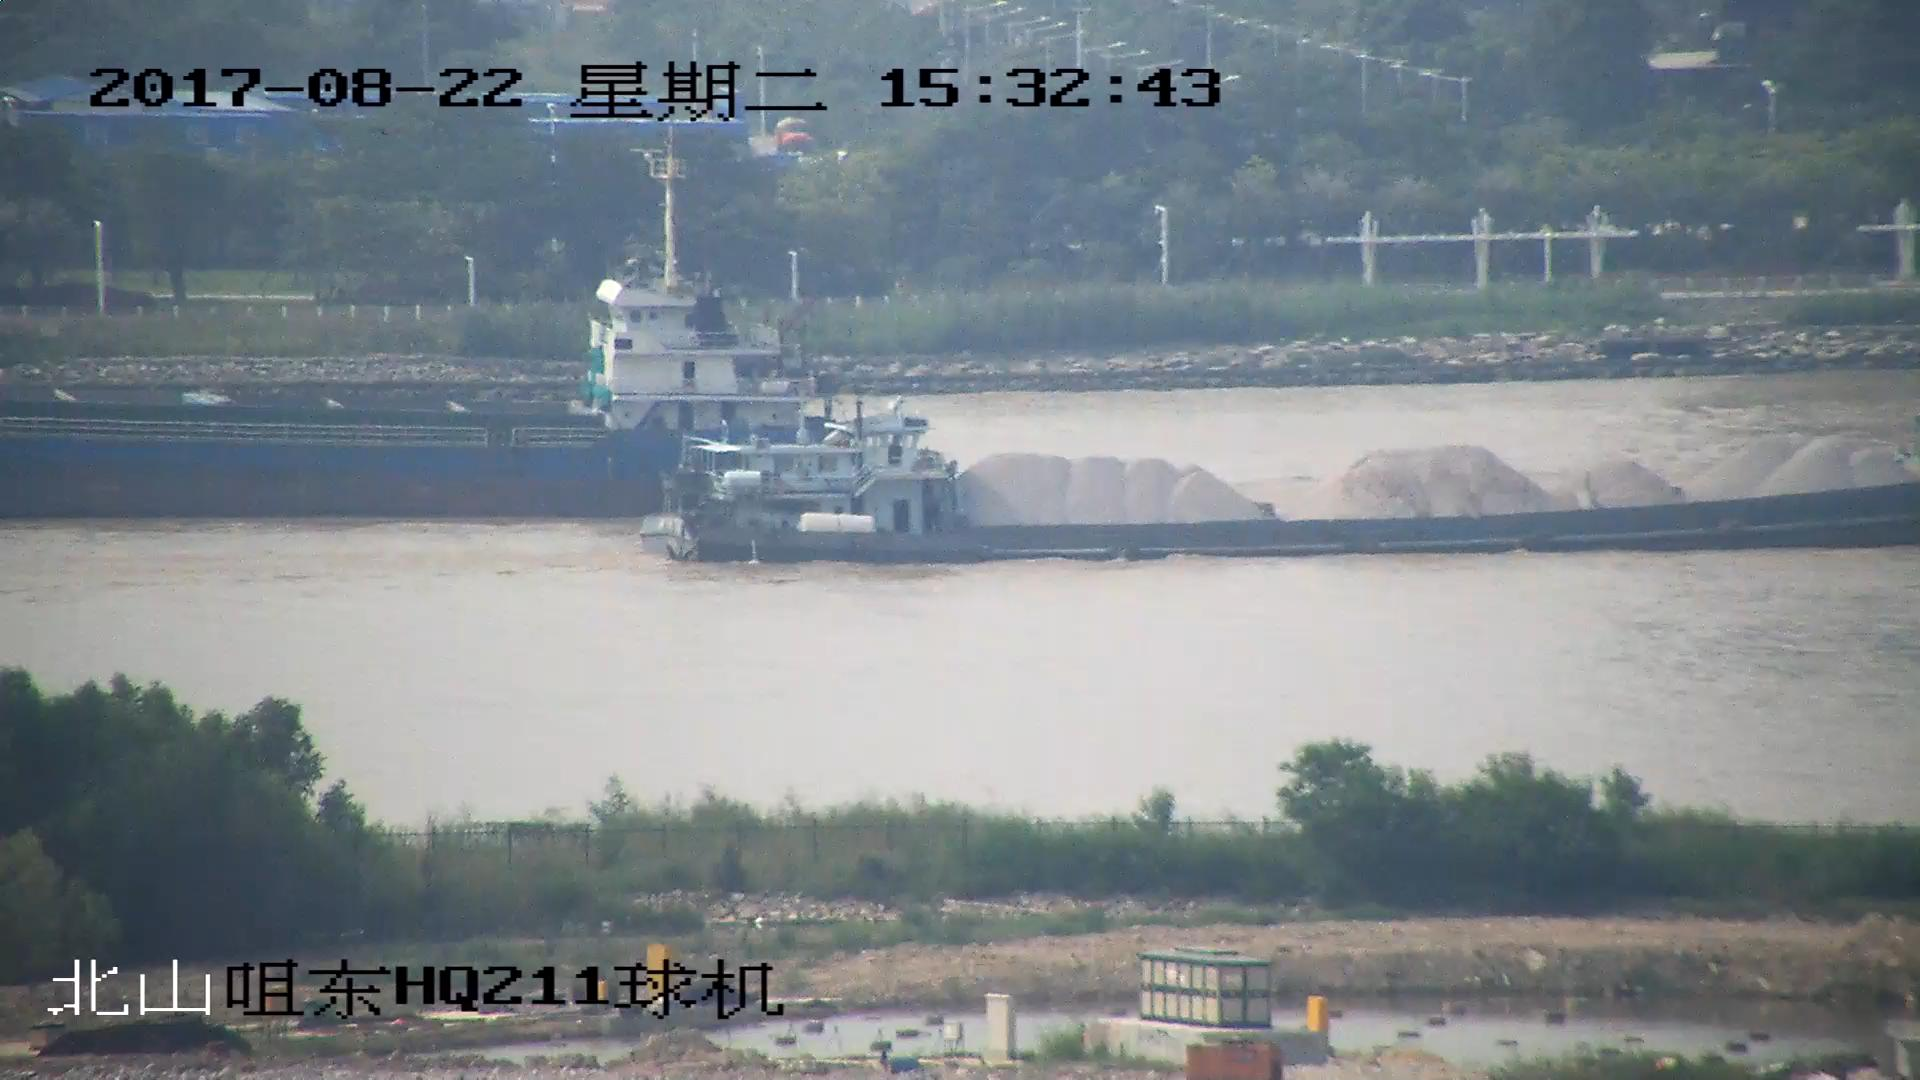general cargo ship: (1, 133, 833, 514)
ore carrier: (644, 410, 1920, 564)
